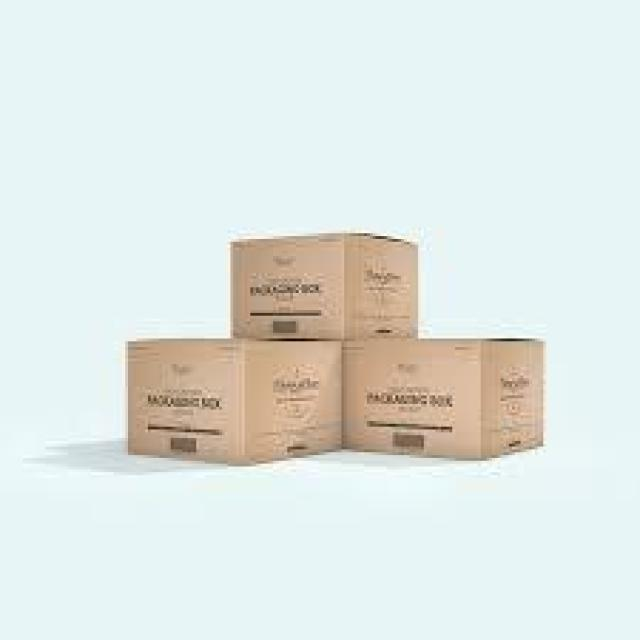box: (126, 337, 343, 468), (340, 339, 545, 460), (231, 233, 419, 340)
